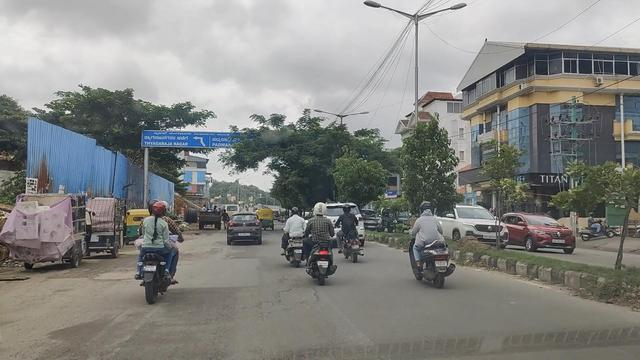LMV: (410, 198, 458, 286), (141, 202, 173, 304), (313, 201, 330, 283), (228, 210, 263, 247), (284, 206, 304, 264), (341, 207, 360, 258)
RoadDamages: (67, 318, 141, 360), (284, 337, 354, 360), (274, 280, 311, 302)
